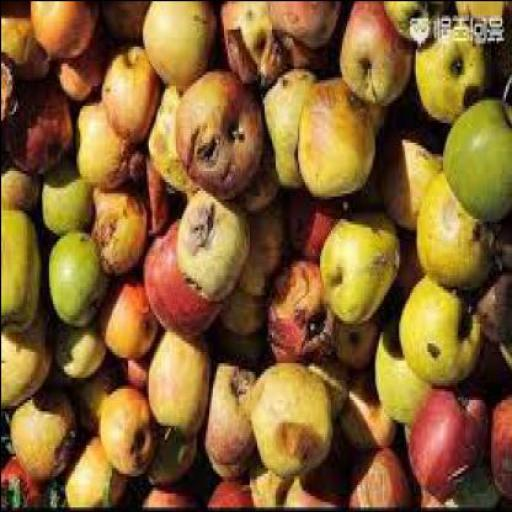biodegradable: (0, 2, 511, 511), (171, 70, 262, 204), (414, 164, 498, 300), (316, 207, 400, 331), (396, 271, 480, 391), (293, 79, 370, 204), (140, 218, 217, 342), (245, 368, 330, 478), (406, 386, 484, 504), (440, 98, 510, 226), (410, 17, 488, 125), (335, 3, 411, 108), (176, 192, 246, 306), (372, 119, 440, 234), (261, 266, 337, 368), (258, 68, 313, 196), (145, 331, 207, 444), (140, 2, 216, 94), (246, 444, 345, 511), (5, 390, 74, 484), (99, 45, 161, 145), (2, 85, 68, 178), (372, 314, 427, 424), (44, 234, 104, 328), (95, 391, 157, 478), (201, 362, 252, 464), (337, 370, 394, 458), (217, 3, 279, 82), (60, 438, 127, 511), (72, 102, 130, 186), (89, 192, 144, 278), (27, 3, 96, 71), (98, 283, 157, 362), (1, 312, 48, 410), (1, 208, 37, 334), (282, 195, 341, 269), (236, 204, 280, 302), (38, 164, 89, 241), (125, 147, 168, 238), (342, 452, 409, 510), (1, 2, 48, 82), (263, 3, 335, 54), (50, 320, 101, 388), (256, 34, 319, 88), (471, 269, 511, 354), (68, 365, 113, 439), (236, 130, 275, 215), (142, 430, 196, 487), (54, 40, 102, 104), (304, 356, 346, 422), (336, 314, 378, 376), (382, 2, 438, 48), (217, 286, 264, 340), (486, 405, 511, 506), (206, 322, 262, 364), (1, 453, 41, 511), (388, 238, 420, 302), (99, 3, 150, 43), (488, 3, 510, 91), (1, 165, 36, 215), (204, 447, 252, 481), (204, 478, 251, 510), (139, 484, 195, 509), (110, 359, 147, 393), (488, 220, 510, 274), (1, 62, 15, 126), (452, 2, 501, 20), (360, 107, 386, 139), (41, 481, 59, 509), (453, 23, 457, 25)
